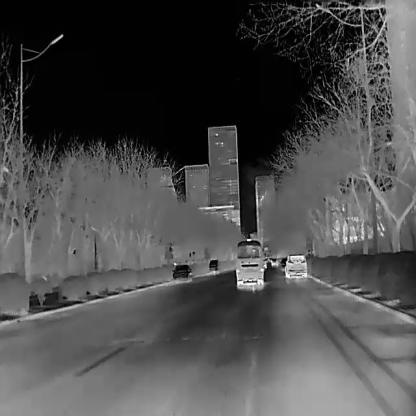bus: (234, 238, 263, 286)
car: (283, 253, 307, 280), (170, 264, 192, 281), (207, 259, 218, 273)
